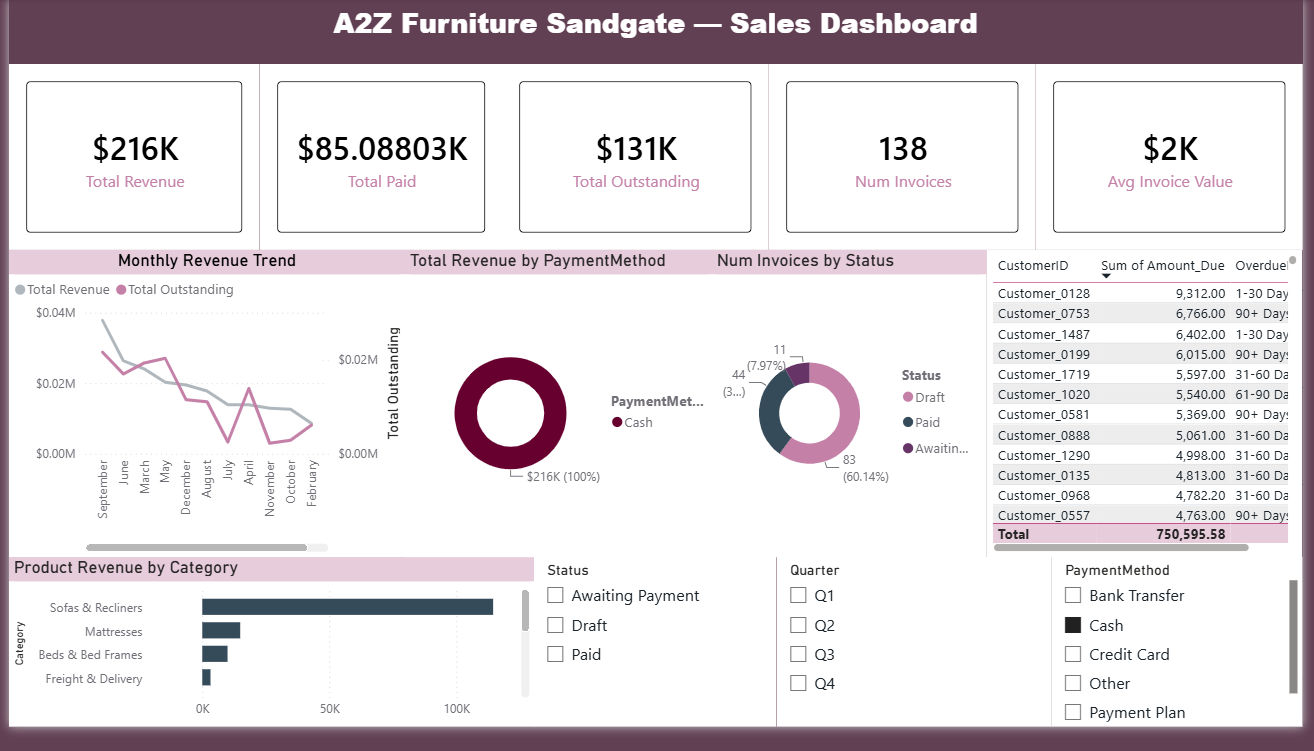

Layout of this report page (visuals, bound fields, positions):
{"tool":"powerbi","page":{"name":"sales_dashboard","canvas":[1280,720],"ordinal":0},"visuals":[{"type":"textbox","box":[0,0,1280,64],"z":0},{"type":"cardVisual","fields":{"Data":["Invoice_Summary.Total Revenue"]},"box":[0,64,248,184],"z":1000},{"type":"cardVisual","fields":{"Data":["Invoice_Summary.Total Paid"]},"box":[248,64,240,184],"z":2000},{"type":"cardVisual","fields":{"Data":["Invoice_Summary.Total Outstanding"]},"box":[488,64,264,184],"z":3000},{"type":"cardVisual","fields":{"Data":["Invoice_Summary.Num Invoices"]},"box":[752,64,264,184],"z":4000},{"type":"cardVisual","fields":{"Data":["Invoice_Summary.Avg Invoice Value"]},"box":[1016,64,264,184],"z":5000},{"type":"lineChart","title":"Monthly Revenue Trend","fields":{"Category":["Invoice_Summary.MonthName"],"Y":["Invoice_Summary.Total Revenue"],"Y2":["Invoice_Summary.Total Outstanding"]},"box":[0,248,392,304],"z":6000},{"type":"clusteredBarChart","fields":{"Category":["Invoice_Line_Items.Category"],"Y":["Invoice_Line_Items.Product Revenue"]},"box":[0,552,520,168],"z":7000},{"type":"donutChart","fields":{"Category":["Invoice_Summary.PaymentMethod"],"Y":["Invoice_Summary.Total Revenue"]},"box":[392,248,304,304],"z":8000},{"type":"donutChart","fields":{"Category":["Invoice_Summary.Status"],"Y":["Invoice_Summary.Num Invoices"]},"box":[696,248,272,304],"z":9000},{"type":"tableEx","fields":{"Values":["Aged_Receivables.CustomerID","Sum(Aged_Receivables.Amount_Due)","Aged_Receivables.OverdueBucket"]},"box":[968,248,312,304],"z":10000},{"type":"slicer","fields":{"Values":["Invoice_Summary.Status"]},"box":[520,552,240,168],"z":11000},{"type":"slicer","fields":{"Values":["Invoice_Summary.PaymentMethod"]},"box":[1032,552,248,168],"z":12000},{"type":"slicer","fields":{"Values":["Invoice_Summary.Quarter"]},"box":[760,552,272,168],"z":13000}]}

Visuals, with their boxes in screenshot pixels (x1, y1, x2, y2), scaled from the page's 1280x720 canvas onto the 1314x751 screenshot:
textbox: (left=0, top=0, right=1313, bottom=67)
cardVisual - Invoice_Summary.Total Revenue: (left=0, top=67, right=255, bottom=259)
cardVisual - Invoice_Summary.Total Paid: (left=255, top=67, right=501, bottom=259)
cardVisual - Invoice_Summary.Total Outstanding: (left=501, top=67, right=772, bottom=259)
cardVisual - Invoice_Summary.Num Invoices: (left=772, top=67, right=1043, bottom=259)
cardVisual - Invoice_Summary.Avg Invoice Value: (left=1043, top=67, right=1313, bottom=259)
"Monthly Revenue Trend" lineChart: (left=0, top=259, right=402, bottom=576)
clusteredBarChart - Invoice_Line_Items.Category x Invoice_Line_Items.Product Revenue: (left=0, top=576, right=534, bottom=750)
donutChart - Invoice_Summary.PaymentMethod x Invoice_Summary.Total Revenue: (left=402, top=259, right=714, bottom=576)
donutChart - Invoice_Summary.Status x Invoice_Summary.Num Invoices: (left=714, top=259, right=994, bottom=576)
tableEx - Aged_Receivables.CustomerID x Sum(Aged_Receivables.Amount_Due): (left=994, top=259, right=1313, bottom=576)
slicer - Invoice_Summary.Status: (left=534, top=576, right=780, bottom=750)
slicer - Invoice_Summary.PaymentMethod: (left=1059, top=576, right=1313, bottom=750)
slicer - Invoice_Summary.Quarter: (left=780, top=576, right=1059, bottom=750)
